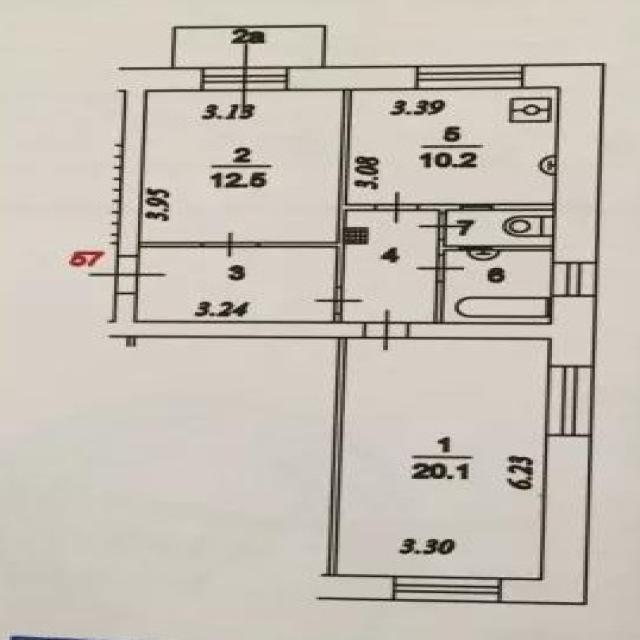Bathrooms: (449, 252, 549, 322), (450, 212, 552, 244)
Corridors: (140, 249, 333, 319), (345, 212, 436, 320), (177, 29, 321, 65)
Doors: (202, 40, 288, 116), (86, 256, 170, 294), (364, 307, 409, 352), (200, 232, 259, 259), (312, 287, 366, 314), (414, 213, 468, 240), (376, 190, 417, 225), (414, 255, 465, 282)
LBwalls: (525, 63, 605, 262), (504, 436, 593, 606), (550, 297, 595, 366), (288, 67, 416, 90), (317, 573, 394, 601), (118, 67, 201, 91)
Offices: (340, 340, 547, 576), (143, 92, 340, 240), (350, 90, 556, 203)
Walls: (108, 294, 364, 574), (260, 91, 377, 287), (116, 92, 199, 256), (409, 282, 549, 340), (171, 24, 328, 67), (436, 240, 551, 254), (418, 204, 554, 211)
Windows: (546, 365, 593, 437), (394, 574, 503, 604), (416, 64, 523, 88), (552, 262, 598, 297)
